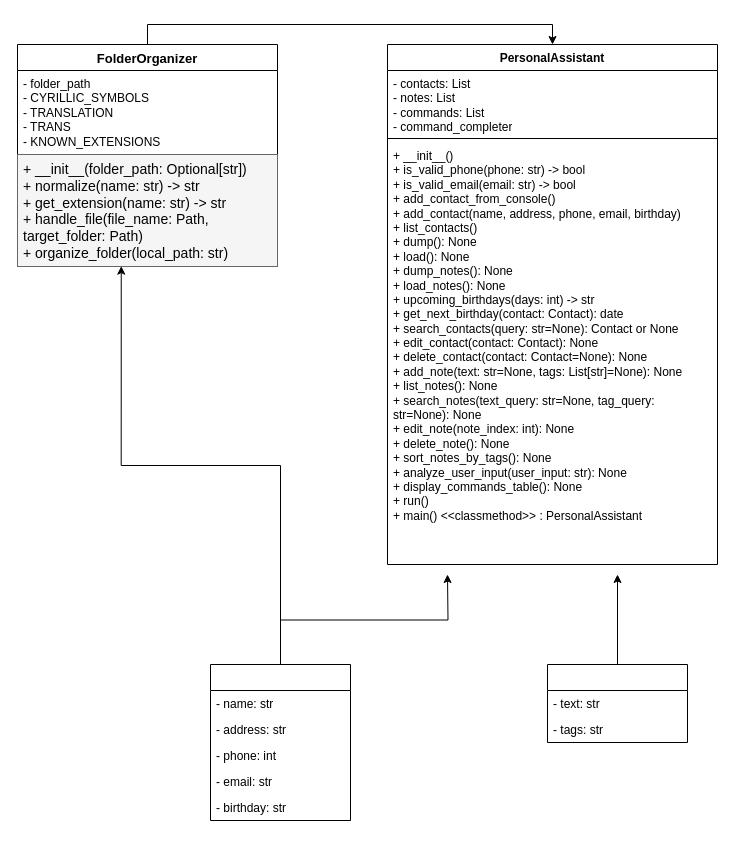
The diagram is 735 pixels wide and 841 high, and some of its shapes have lost their labels. Here are the shapes that lost their labels. From the top down, the box of each, then its label:
(546, 664, 688, 742): Note
(210, 664, 350, 820): Contact
